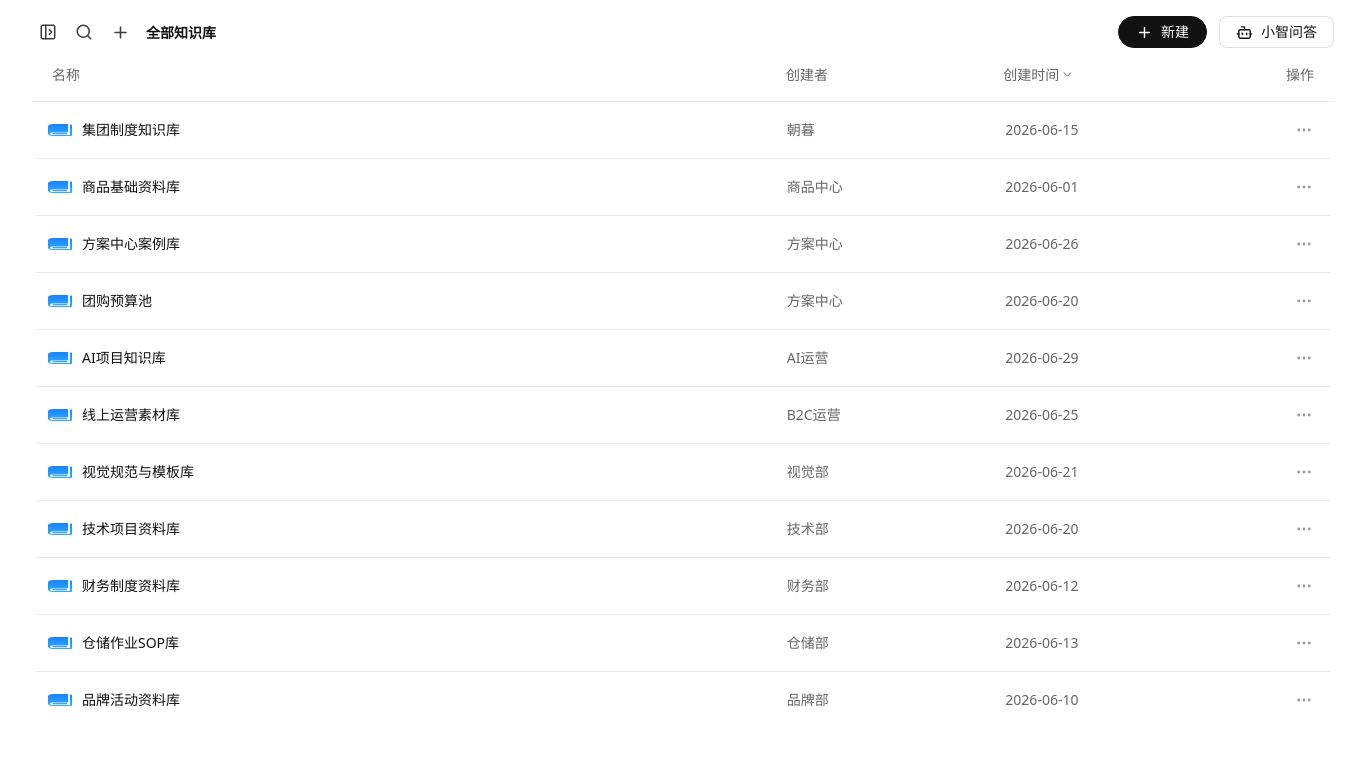
Test: KnowledgeBaseView source clone › opens the exact source sidebar and switches spaces
Click the button named "展开侧栏".
click(48, 32)  # box left=32, top=16, right=64, bottom=48
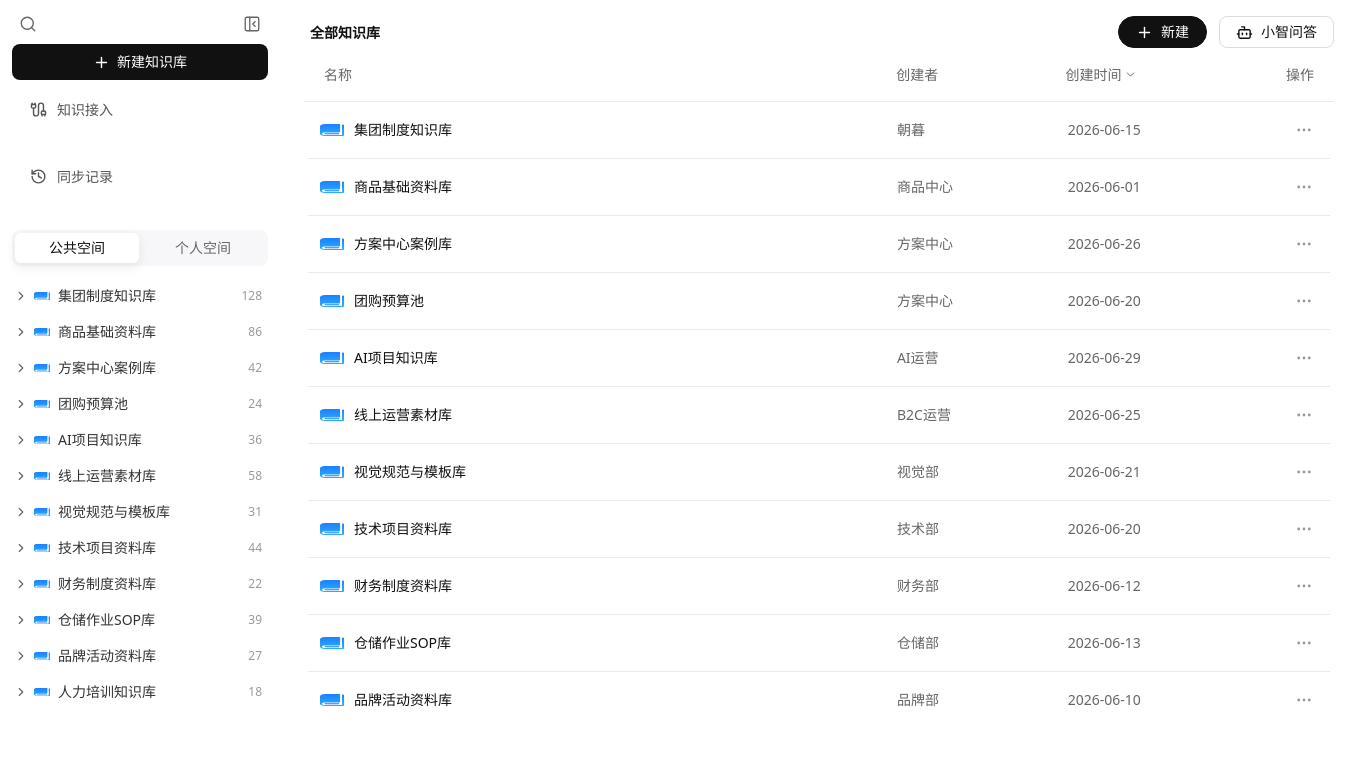
Result: the element with test id "knowledge-sidebar" shows "新建知识库" at left=12, top=44, right=268, bottom=80
Result: the element with test id "knowledge-sidebar" shows "公共空间" at left=15, top=233, right=139, bottom=263
Result: the element with test id "knowledge-sidebar" shows "个人空间" at left=141, top=233, right=265, bottom=263
Click the button named "展开集团制度知识库".
click(21, 296)  # box left=8, top=280, right=34, bottom=312
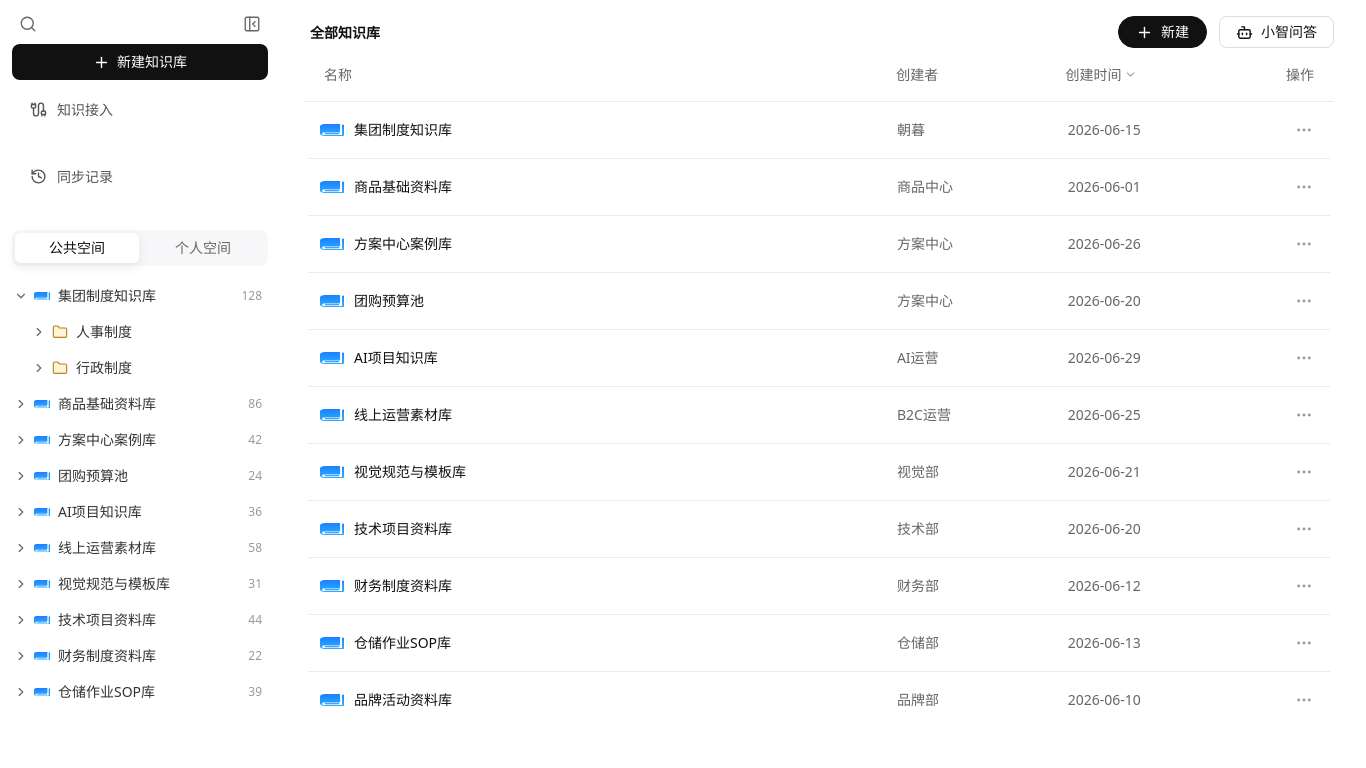
Result: the element with test id "knowledge-sidebar" shows "人事制度" at left=52, top=314, right=272, bottom=350
Click the button named "展开人事制度".
click(39, 332)  # box left=26, top=316, right=52, bottom=348
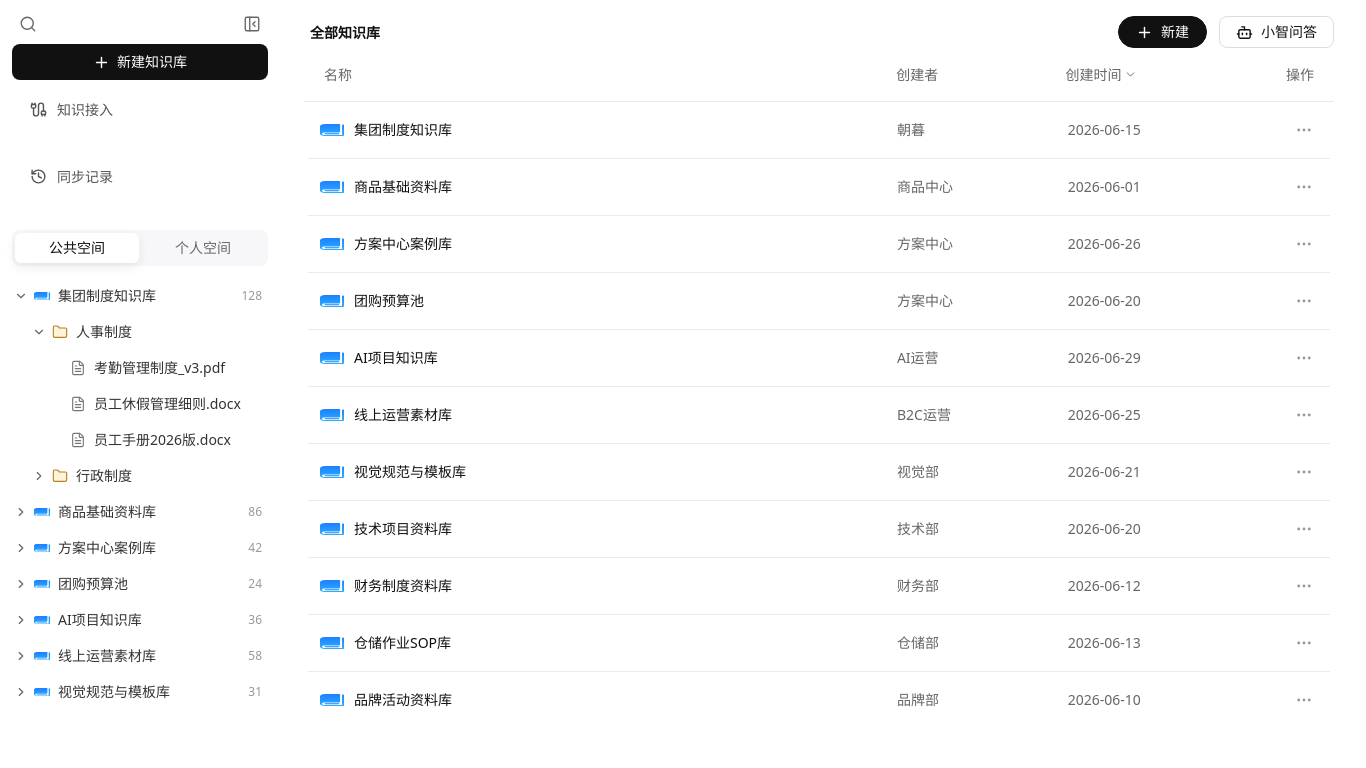
Result: the element with test id "knowledge-sidebar" shows "考勤管理制度_v3.pdf" at left=70, top=350, right=272, bottom=386
Click the tab with aria-label "个人空间".
click(203, 248)  # box left=141, top=233, right=265, bottom=263
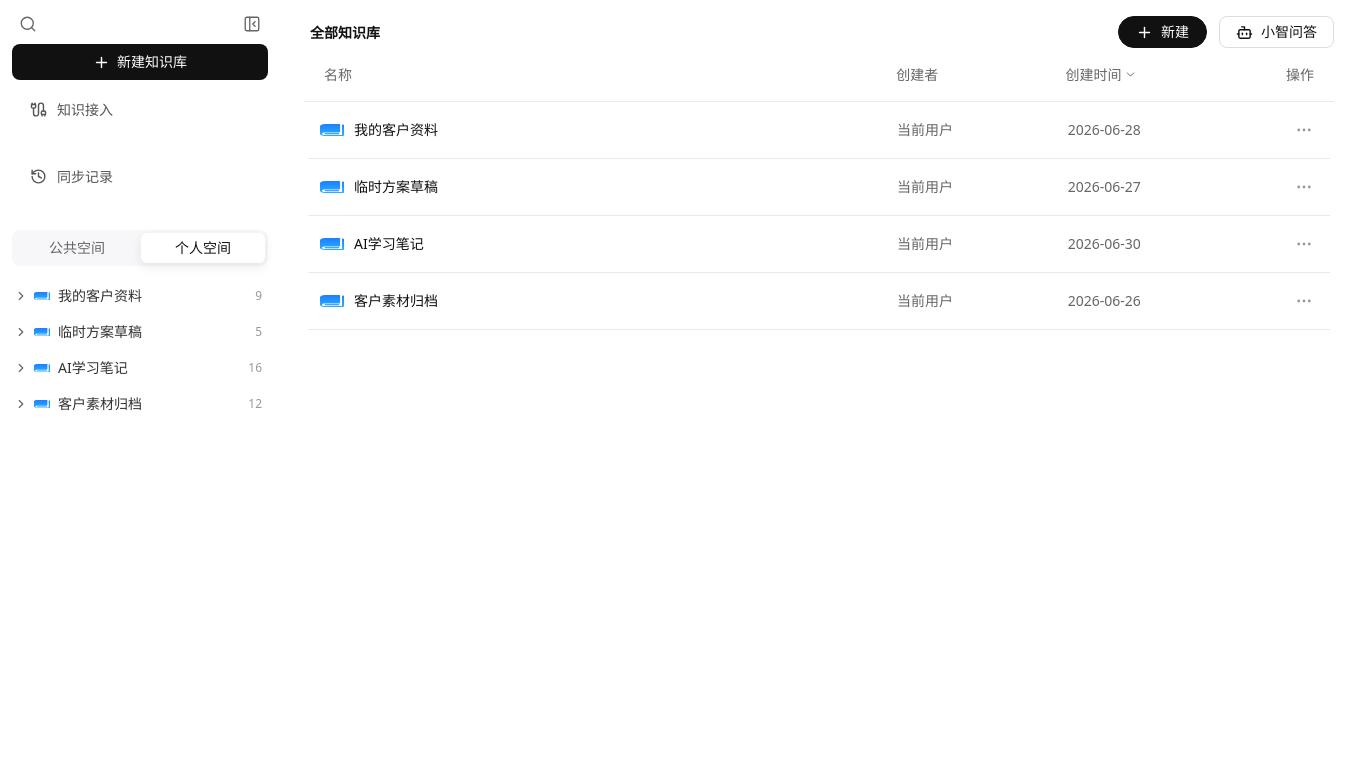
Result: the number of buttons with test id "knowledge-kb-row" is 4 at left=308, top=102, right=1330, bottom=159; left=308, top=159, right=1330, bottom=216; left=308, top=216, right=1330, bottom=273; left=308, top=273, right=1330, bottom=330
Result: the text "我的客户资料" is shown at left=58, top=286, right=142, bottom=305
